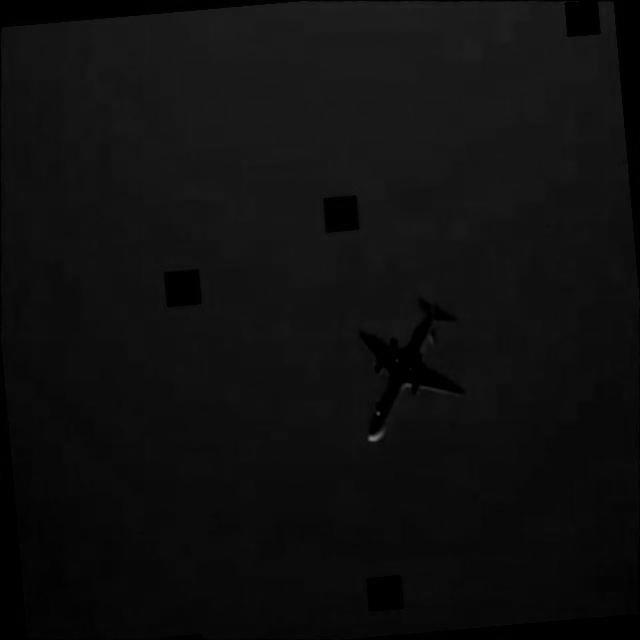aeroplane: (349, 289, 465, 449)
